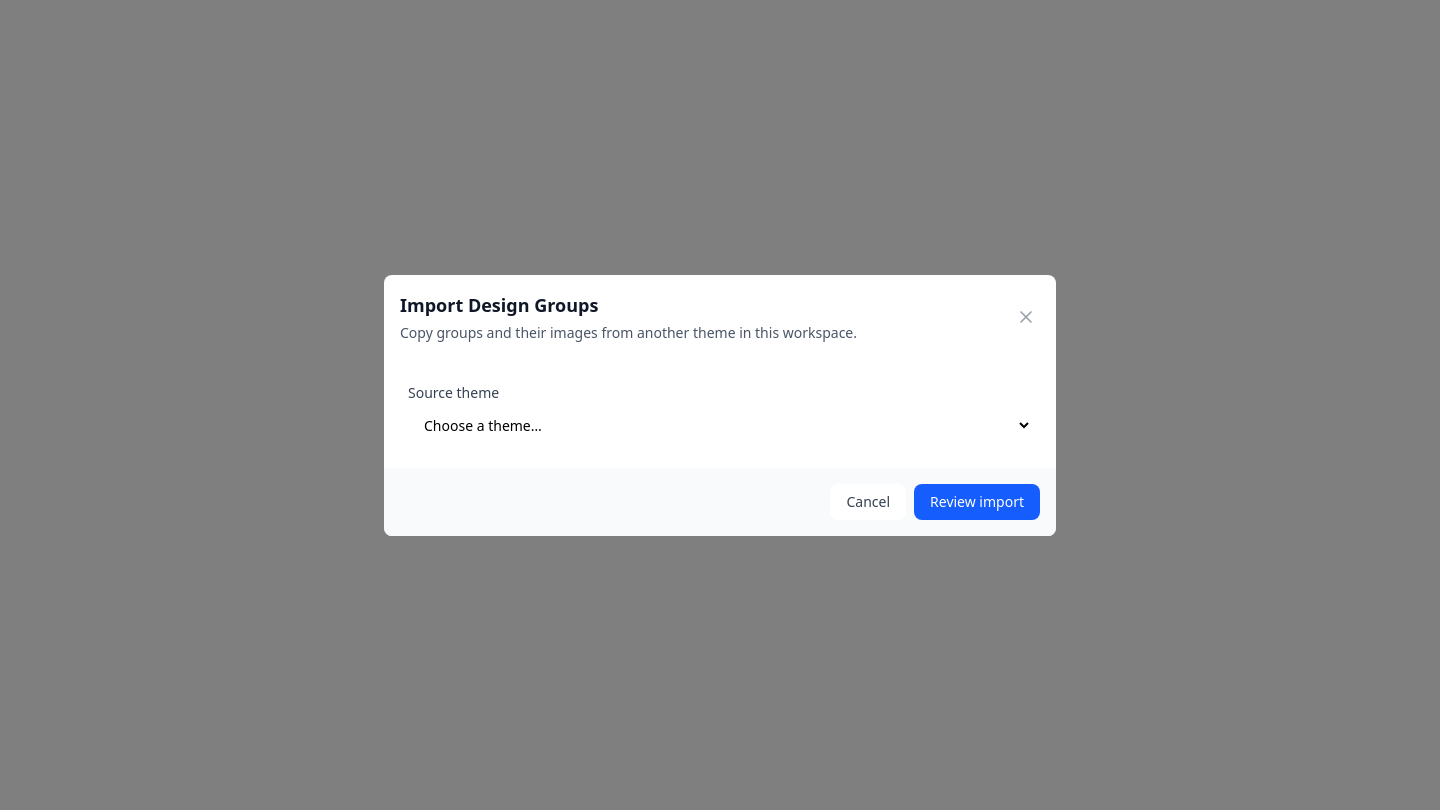
Test: DesignGroupImportModal › reviews conflicts before offering skip or overwrite
Select "Source Theme" in the dropdown labelled "Source theme" at (720, 425), box [408,406,1032,444]
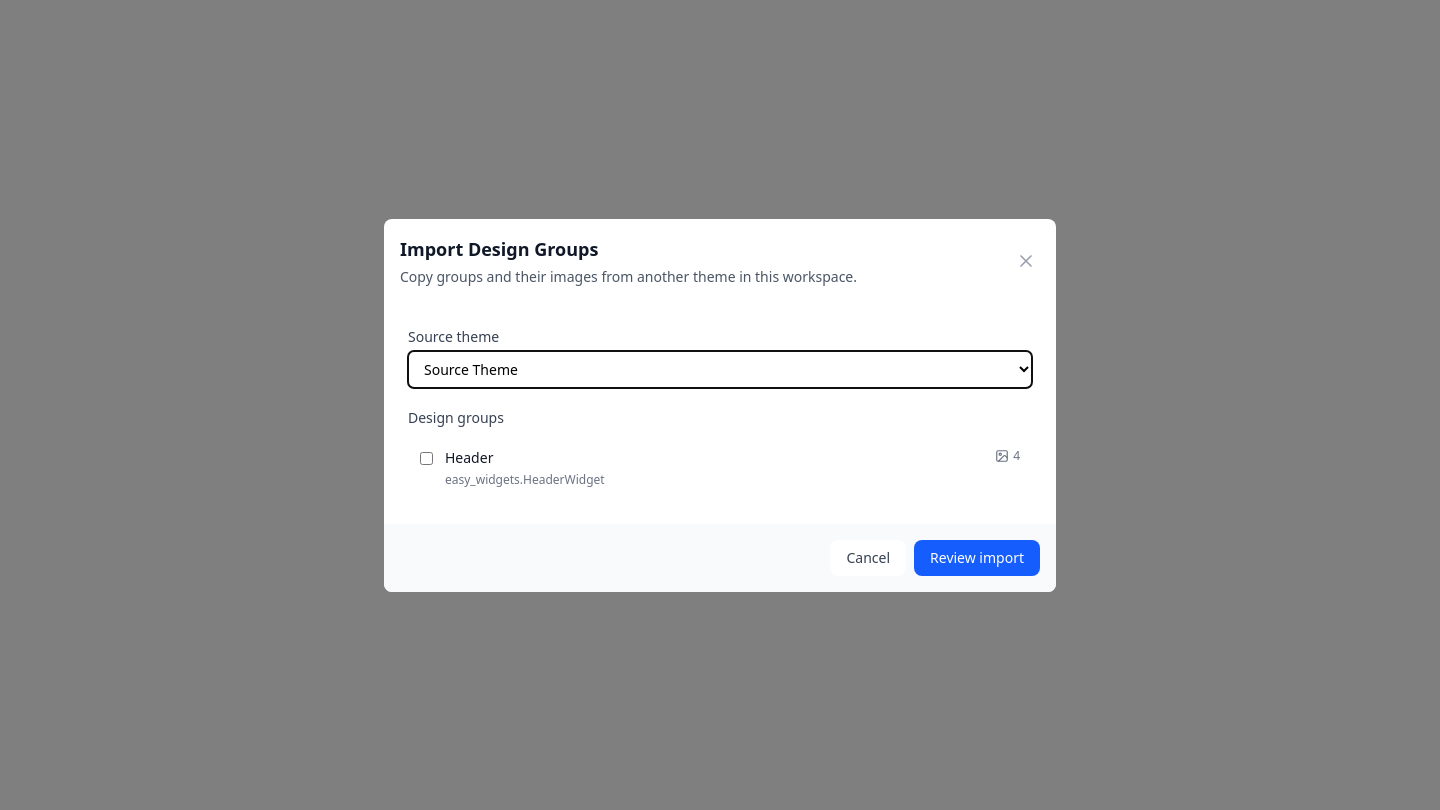
Click the checkbox labelled "Header easy_widgets.HeaderWidget 4".
click(426, 458)  # box [420,452,433,464]
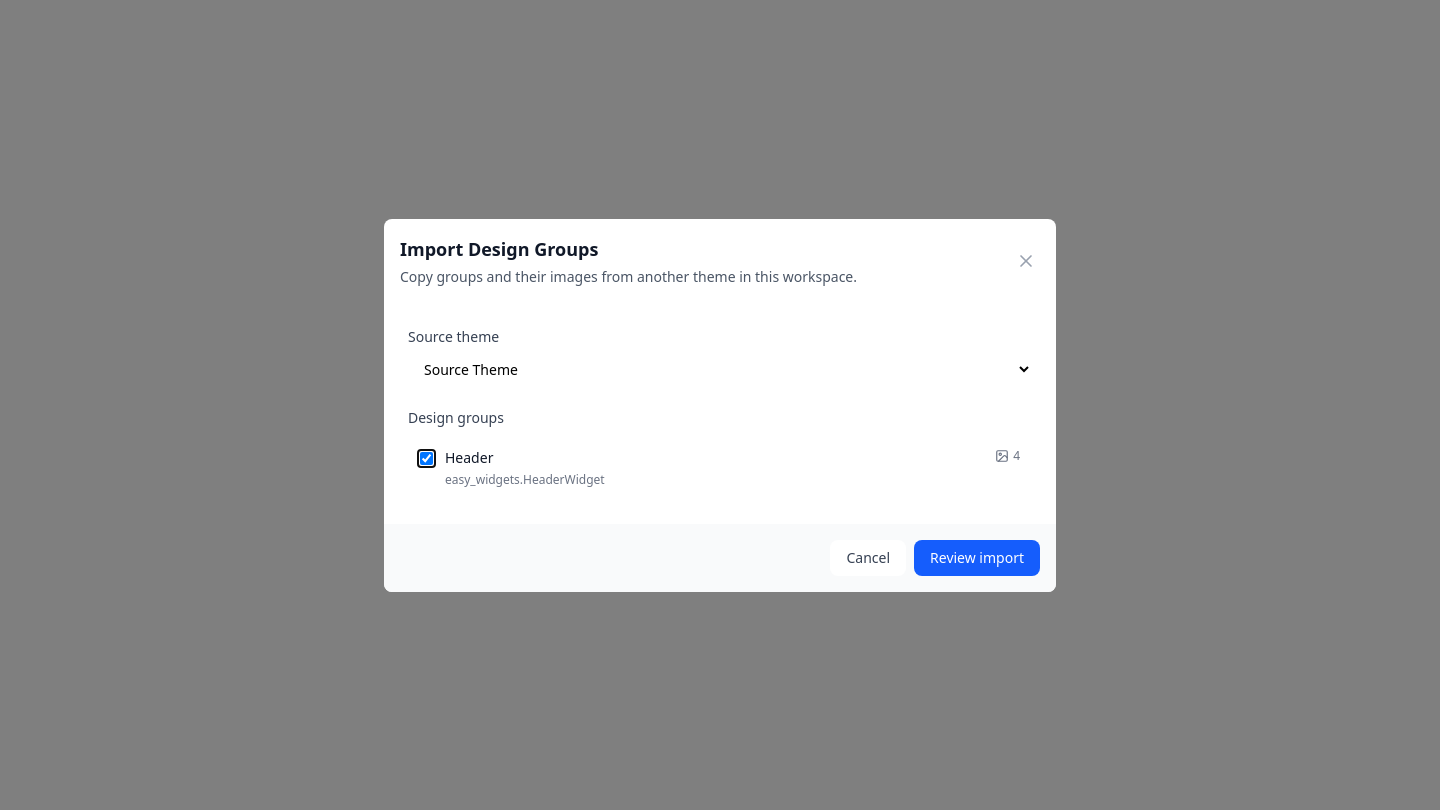
Click the button "Review import".
click(977, 558)  # box [914,540,1040,576]
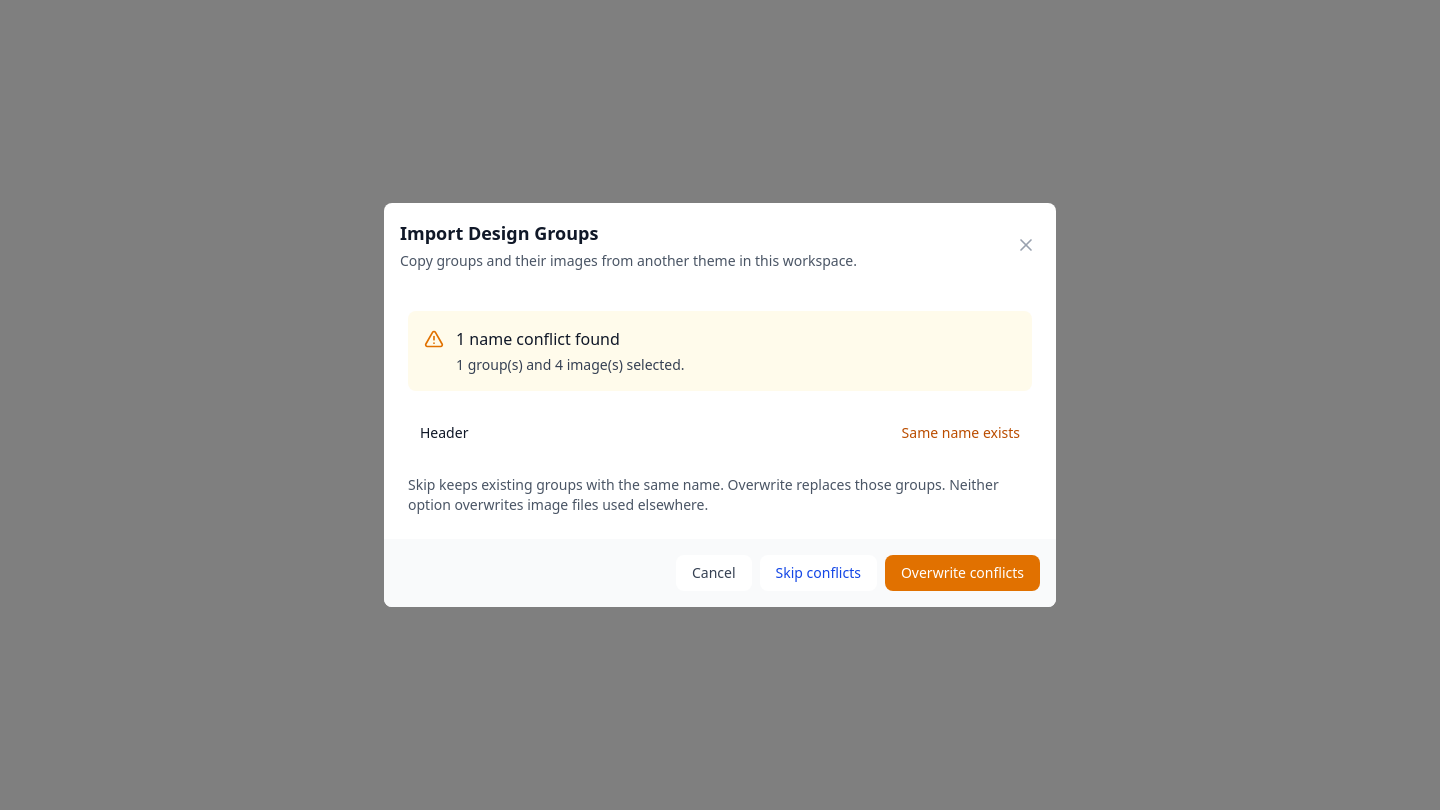
Now the heading "1 name conflict found" is shown, box [456,328,620,350]
Now the button "Skip conflicts" is shown, box [760,555,877,591]
Now the button "Overwrite conflicts" is shown, box [885,555,1040,591]
